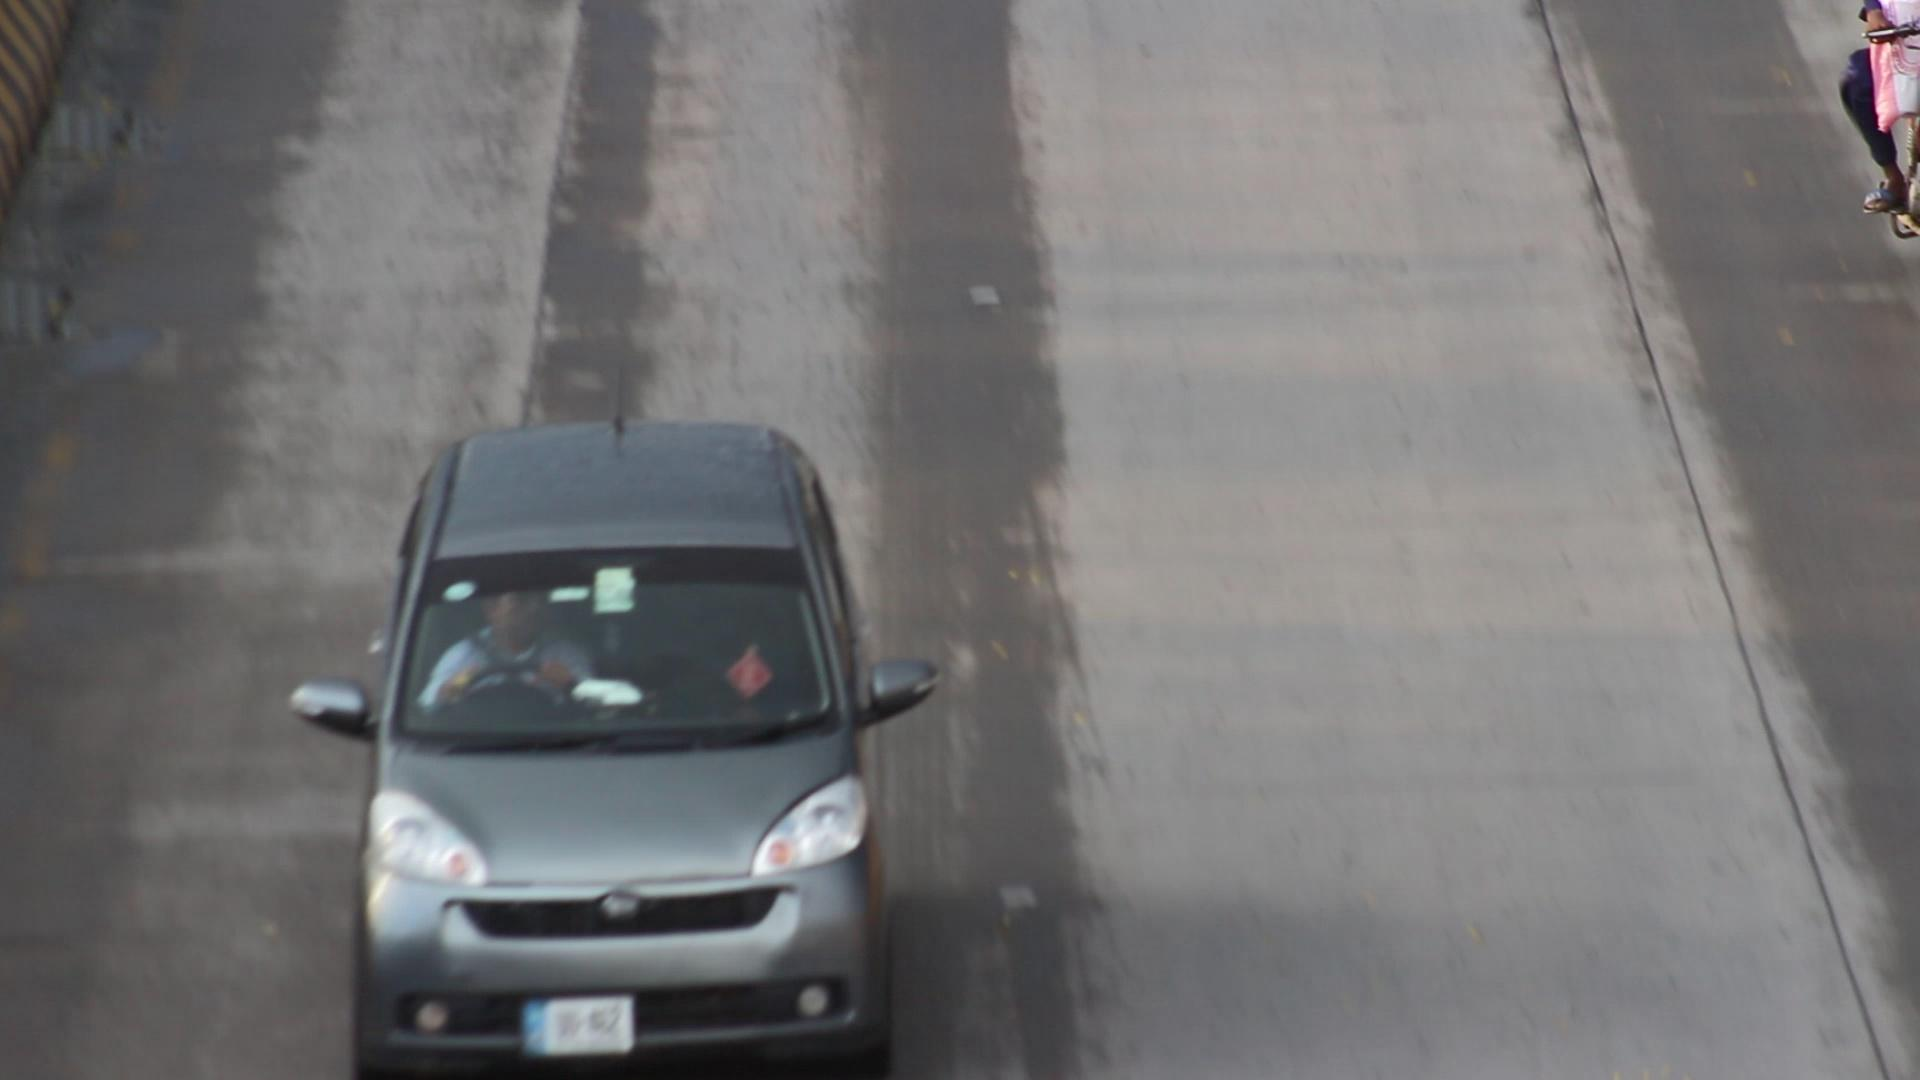windshield: (377, 539, 857, 750)
